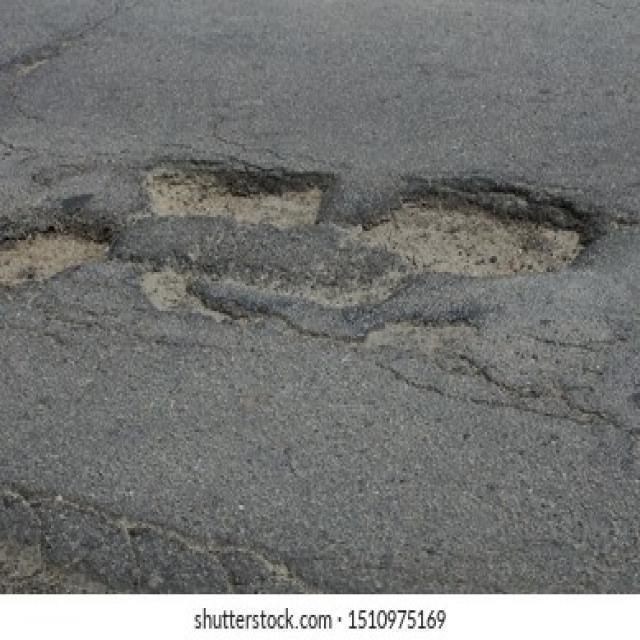pothole: (351, 181, 598, 281), (138, 156, 331, 236), (199, 254, 388, 314), (0, 215, 114, 291), (132, 254, 200, 316), (364, 315, 481, 350)
